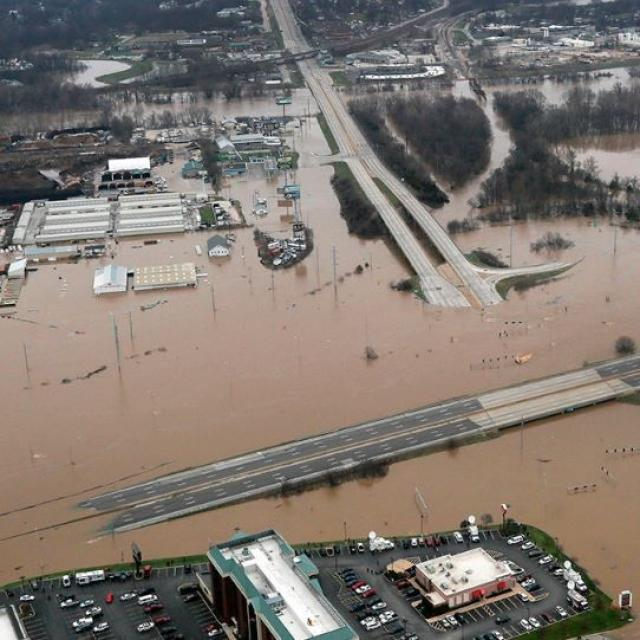flooded_areas: (0, 91, 610, 638)
